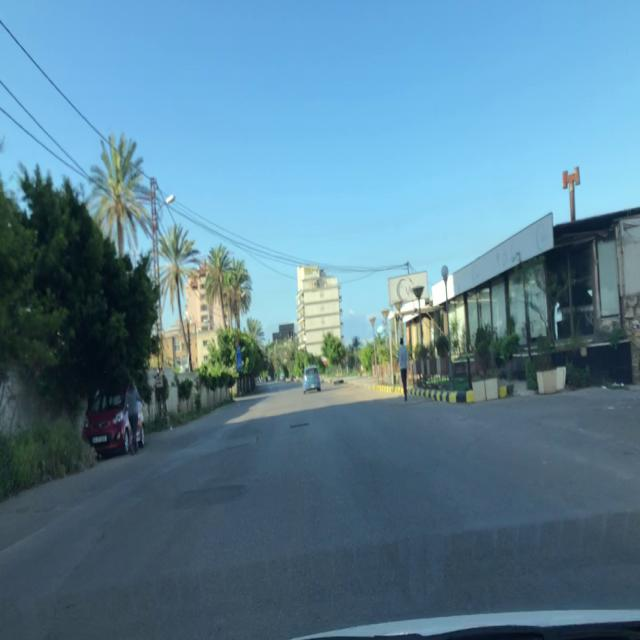Pothole: (288, 422, 311, 429)
